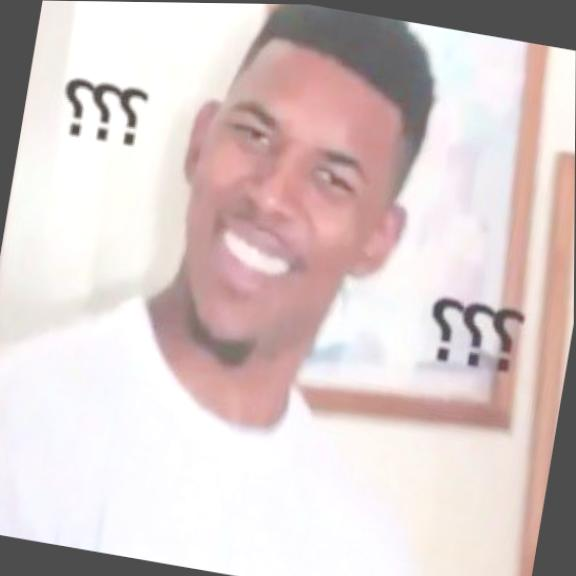no_safety_vest: (0, 271, 485, 576)
